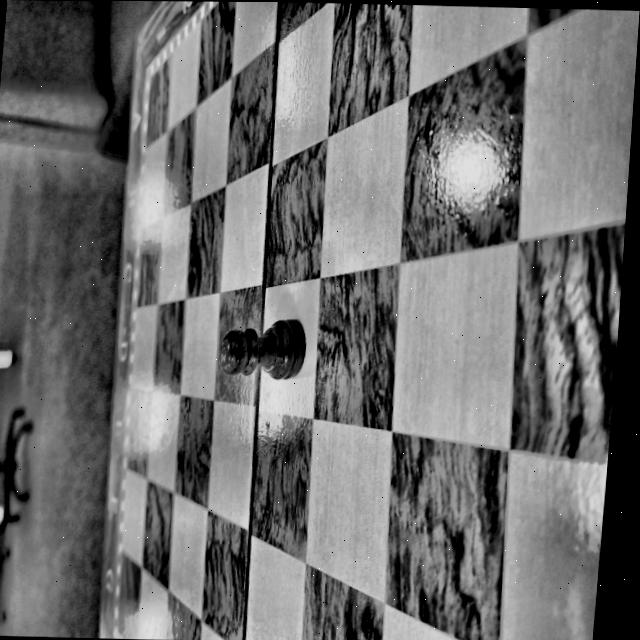black-pawn: (218, 318, 305, 380)
